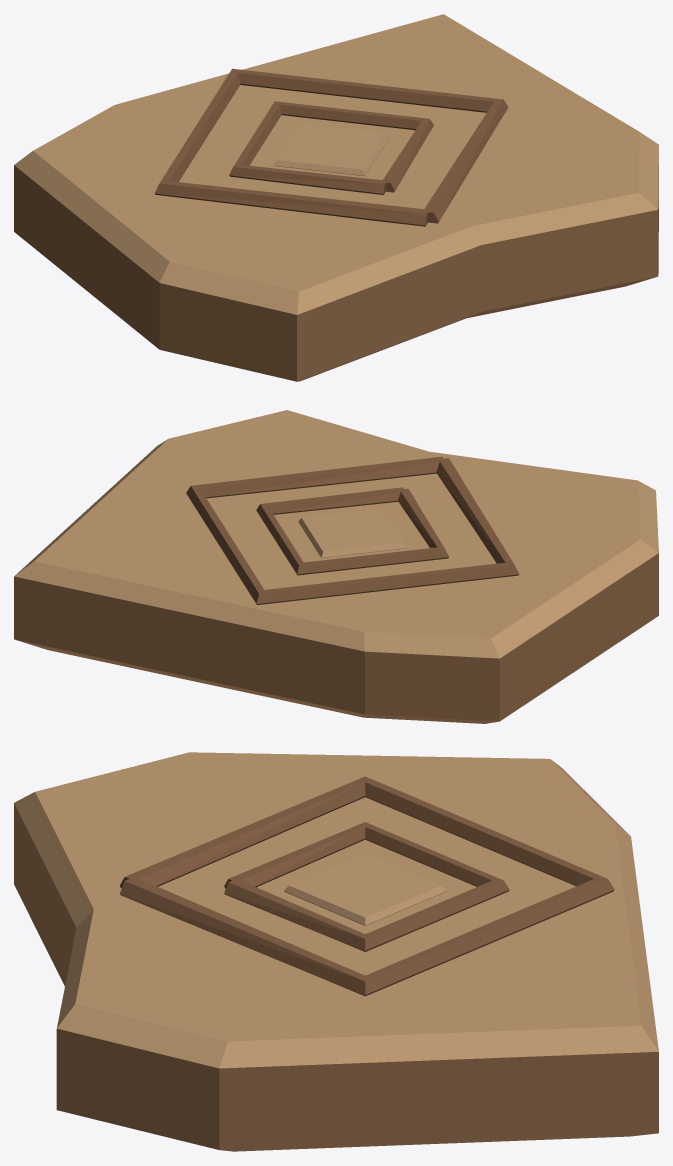
Rendered from ruinenstadt_04.glb.
3 renders of one model, top to bottom at view 1: azimuth 30°, elevation 25°; view 2: azimuth 150°, elevation 25°; view 3: azimuth 270°, elevation 25°, orthographic. The views are drawn at different scales.
Visible parts, largest first — view 1: ruinenstadt_04; view 2: ruinenstadt_04; view 3: ruinenstadt_04.
Boxes of the visible parts, bbox=[...] form: ruinenstadt_04: bbox=[14, 14, 658, 381]; ruinenstadt_04: bbox=[14, 410, 658, 723]; ruinenstadt_04: bbox=[14, 752, 658, 1151].
Size of the model in its own units: 2 by 0.3919 by 1.77.
